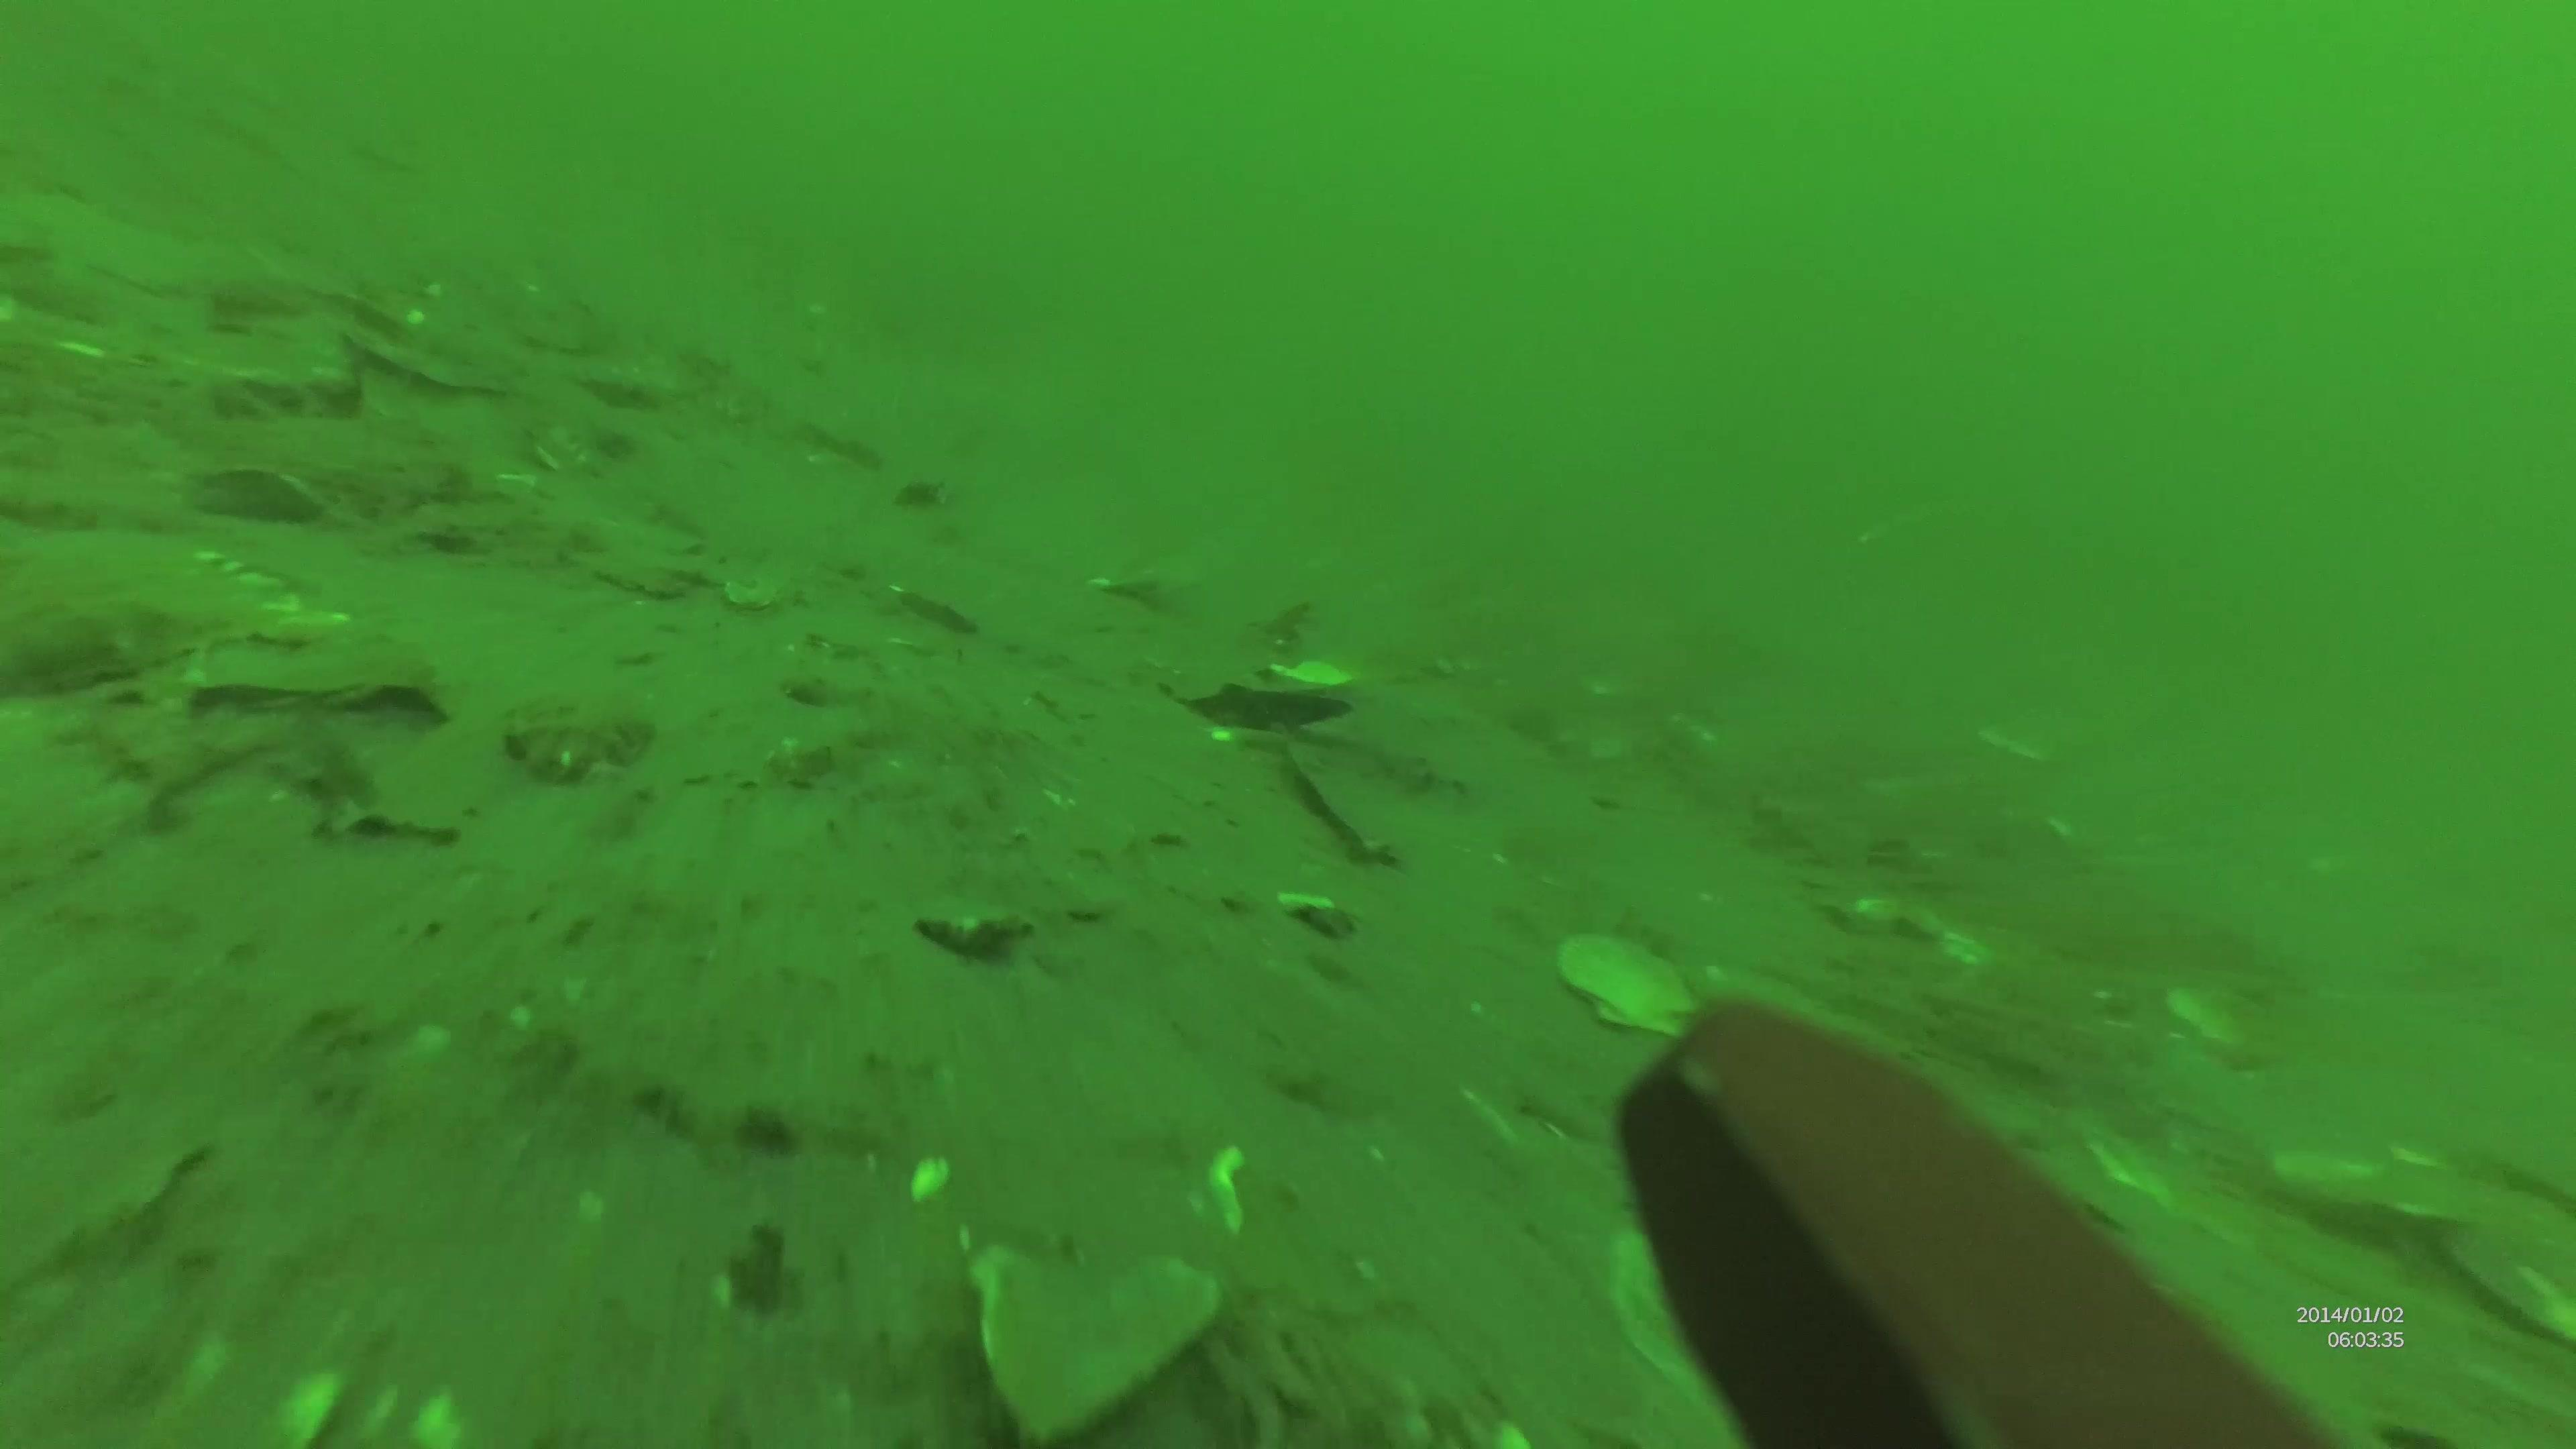scallop: (1555, 922, 1707, 1047)
